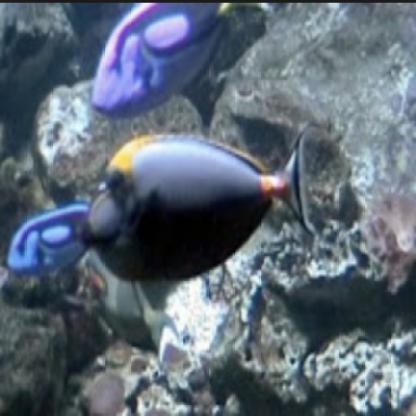Acanthuridae -Surgeonfishes-: (85, 117, 315, 288)
